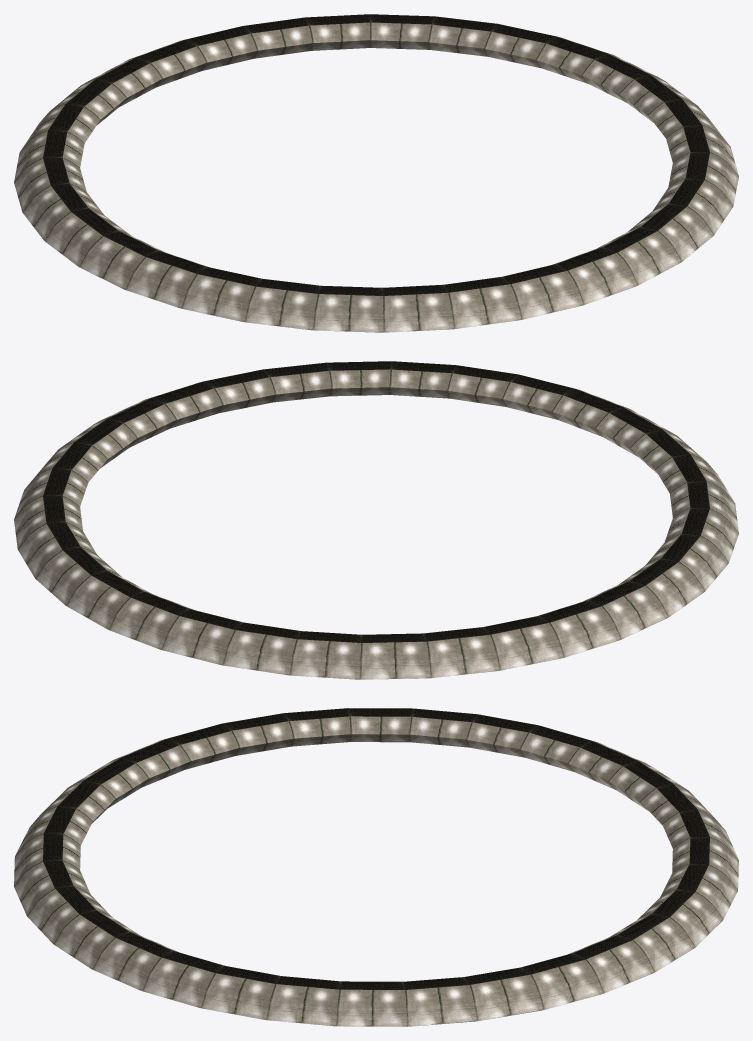
The model's file is Motorcycle paksoi tunnel 1.fbx.
3 views of the same model, one above another, from view 1: azimuth 30°, elevation 25°; view 2: azimuth 150°, elevation 25°; view 3: azimuth 270°, elevation 25° (orthographic).
Visible parts, largest first — view 1: Circle.025; view 2: Circle.025; view 3: Circle.025.
Boxes of the visible parts, bbox=[...] form: Circle.025: bbox=[14, 14, 738, 332]; Circle.025: bbox=[14, 361, 738, 679]; Circle.025: bbox=[14, 708, 738, 1026].
Size of the model in its own units: 7721 by 288 by 7721.
